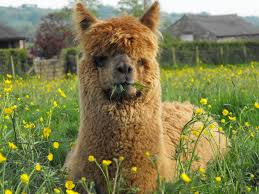alpaca: (58, 1, 230, 194)
